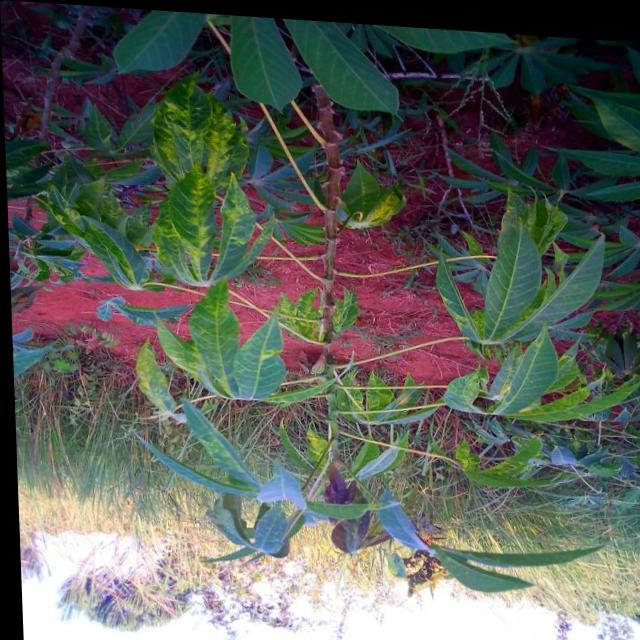Maleza: (440, 464, 640, 616), (24, 374, 191, 552)
Mosaico: (151, 69, 249, 298), (454, 433, 549, 489), (285, 287, 358, 348), (340, 170, 409, 229)
